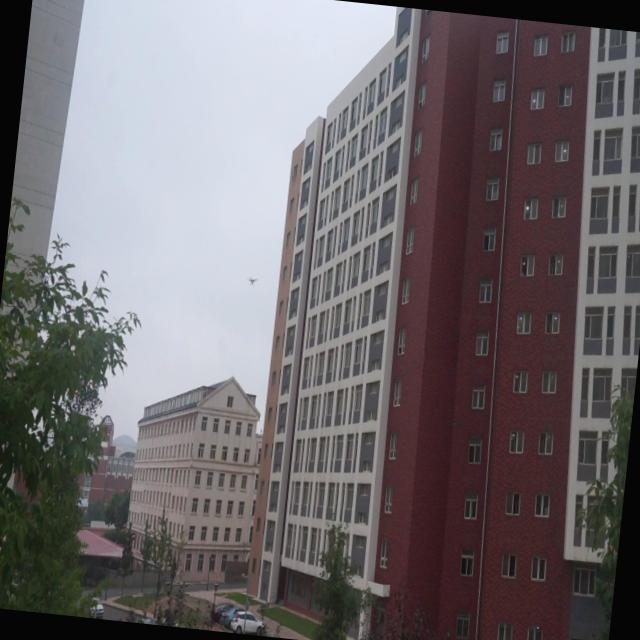drone: (246, 272, 258, 286)
